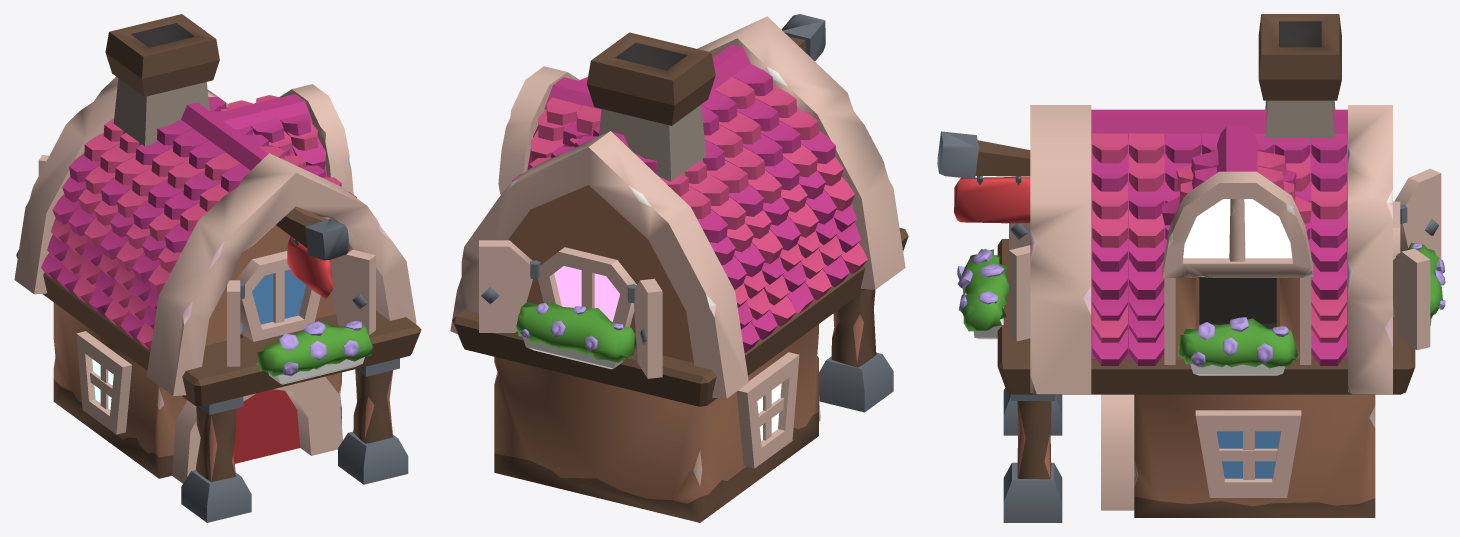
Rendered from casa_telhas_rosa_fantasia_pacote.glb.
3 renders of one model, left to right at view 1: azimuth 30°, elevation 25°; view 2: azimuth 150°, elevation 25°; view 3: azimuth 270°, elevation 25°, orthographic. The views are drawn at different scales.
Parts seen in each view (by area): view 1: casa_telhas_rosa_fantasia_pacote; view 2: casa_telhas_rosa_fantasia_pacote; view 3: casa_telhas_rosa_fantasia_pacote.
Part boxes in pixels (bbox=[...]): casa_telhas_rosa_fantasia_pacote: bbox=[14, 14, 421, 522]; casa_telhas_rosa_fantasia_pacote: bbox=[450, 14, 908, 522]; casa_telhas_rosa_fantasia_pacote: bbox=[937, 14, 1445, 522].
Bounding box in the file's own units: 6.63 × 8.97 × 9.74.
5 materials, 1 textured.
